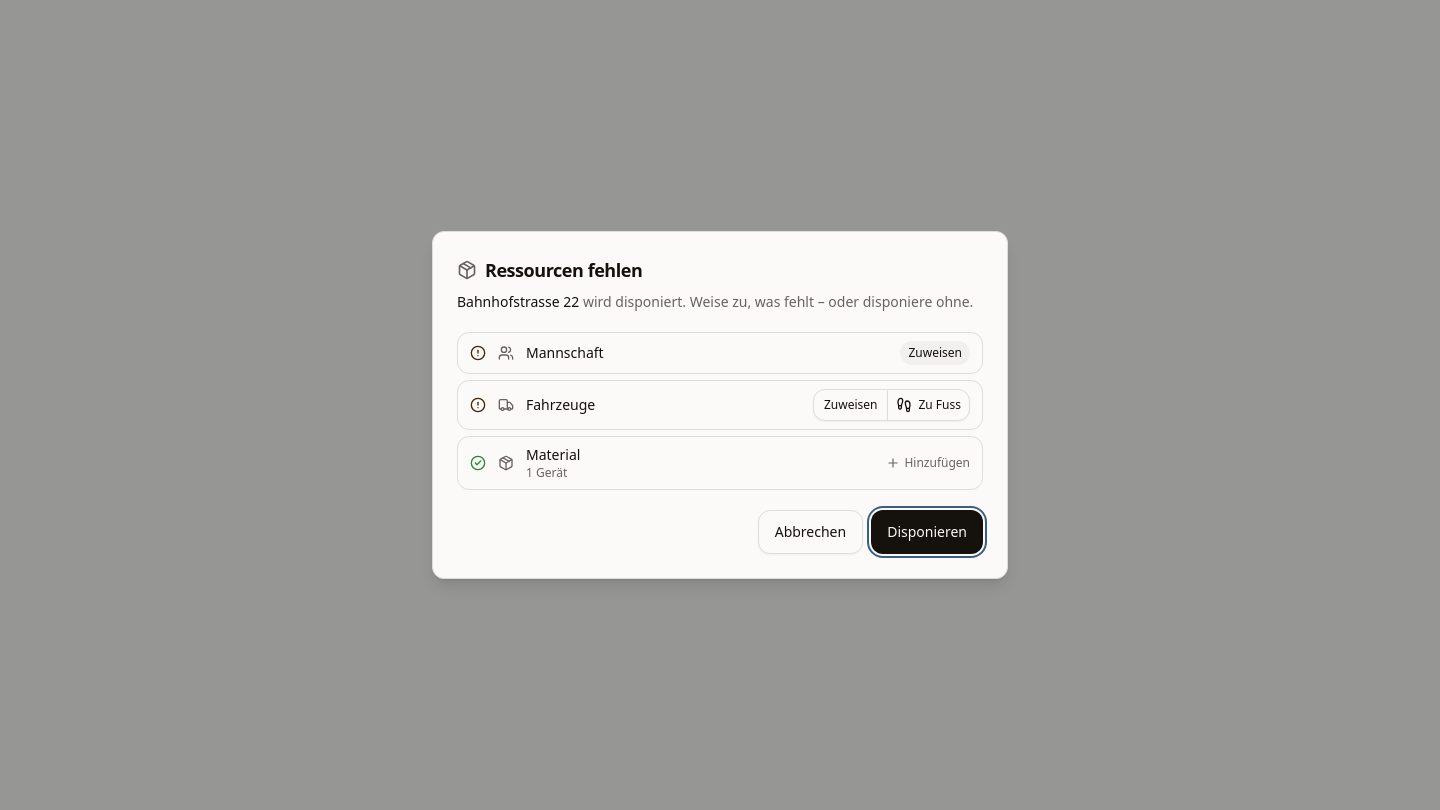
dispatch gate – press twice › names both gaps when crew and vehicle are missing
Step 1. Click the button "Disponieren" → (927,532), box [871, 510, 983, 554]
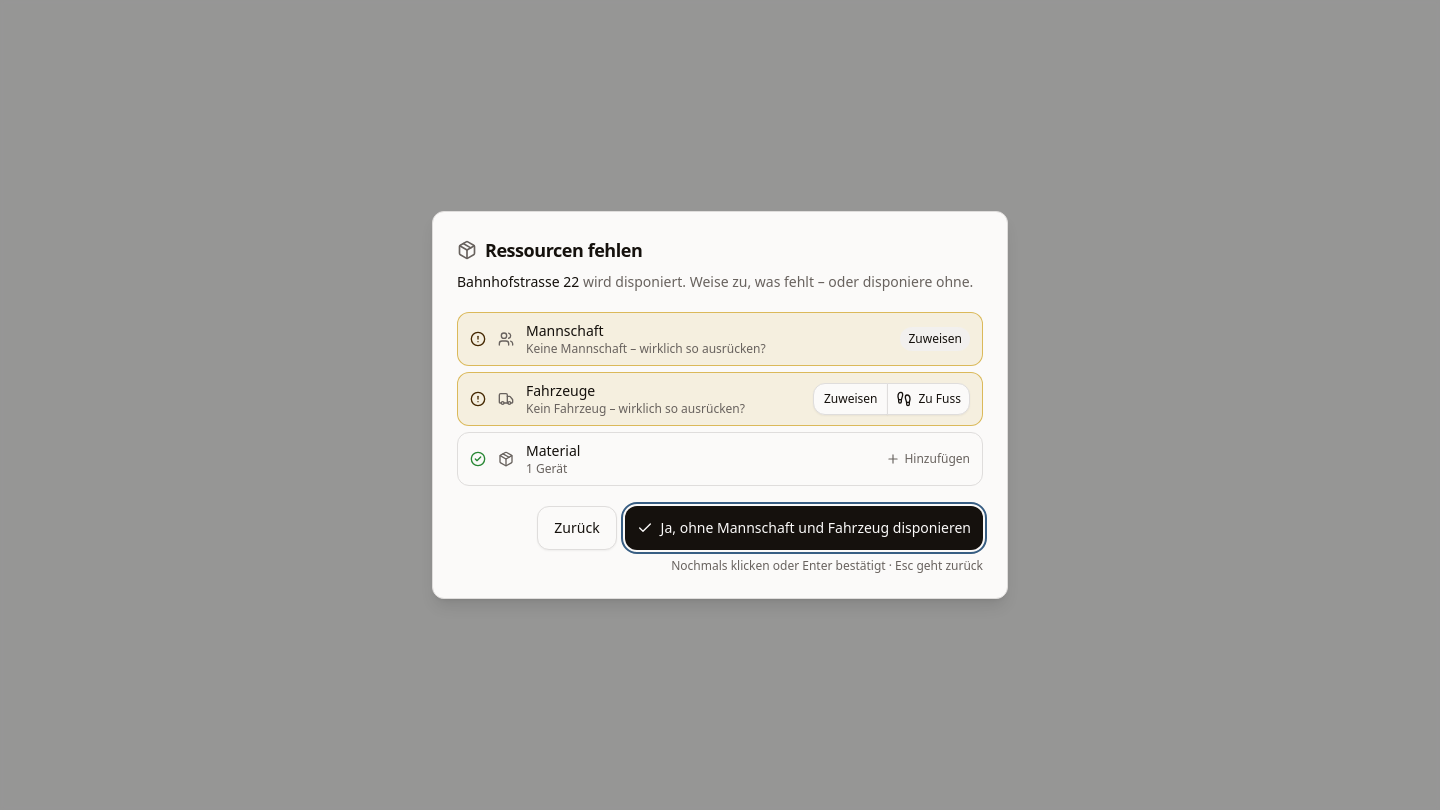
expect the button "Ja, ohne Mannschaft und Fahrzeug disponieren" is shown: met, box [625, 506, 983, 550]
expect the text "Keine Mannschaft – wirklich so ausrücken?" is shown: met, box [526, 340, 766, 357]
